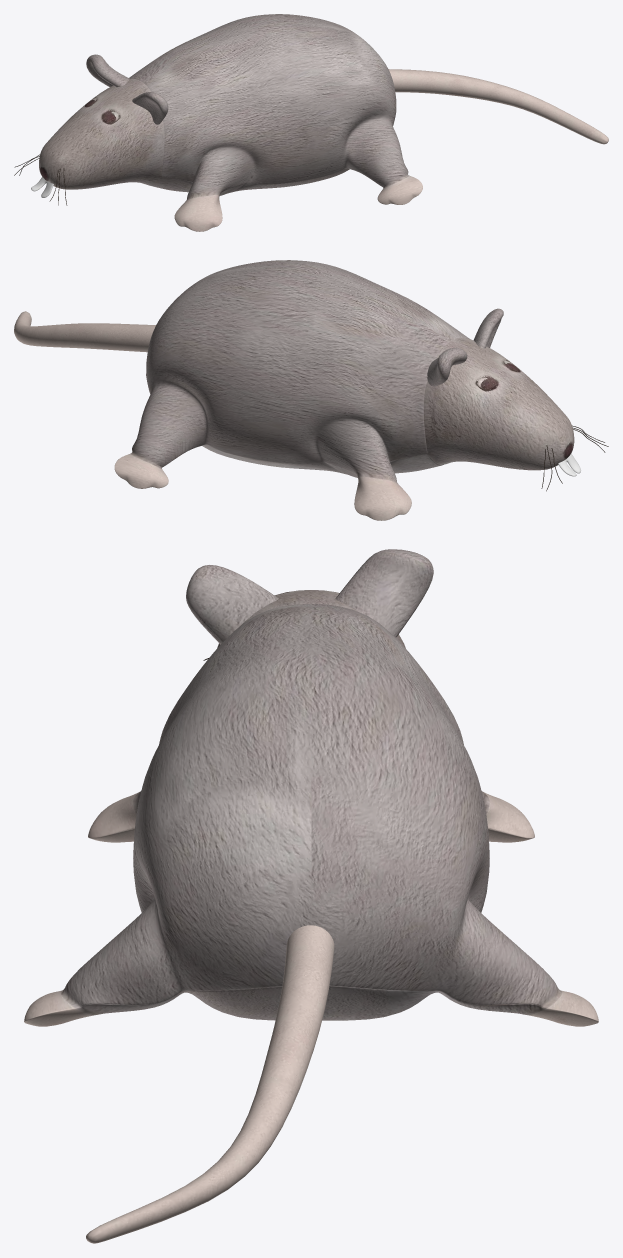
Rendered from gosig_ratta_pluszak_90490476.glb.
3 views of the same model, one above another, from view 1: azimuth 30°, elevation 25°; view 2: azimuth 150°, elevation 25°; view 3: azimuth 270°, elevation 25° (orthographic). The views are drawn at different scales.
Visible parts, largest first — view 1: gosig_ratta_pluszak_90490476; view 2: gosig_ratta_pluszak_90490476; view 3: gosig_ratta_pluszak_90490476.
Part boxes in pixels (bbox=[...]): gosig_ratta_pluszak_90490476: bbox=[14, 14, 608, 231]; gosig_ratta_pluszak_90490476: bbox=[14, 260, 608, 520]; gosig_ratta_pluszak_90490476: bbox=[24, 549, 598, 1243].
Bounding box in the file's own units: 0.23 × 0.0633 × 0.1095.
Materials: 1 (1 with a texture image).
